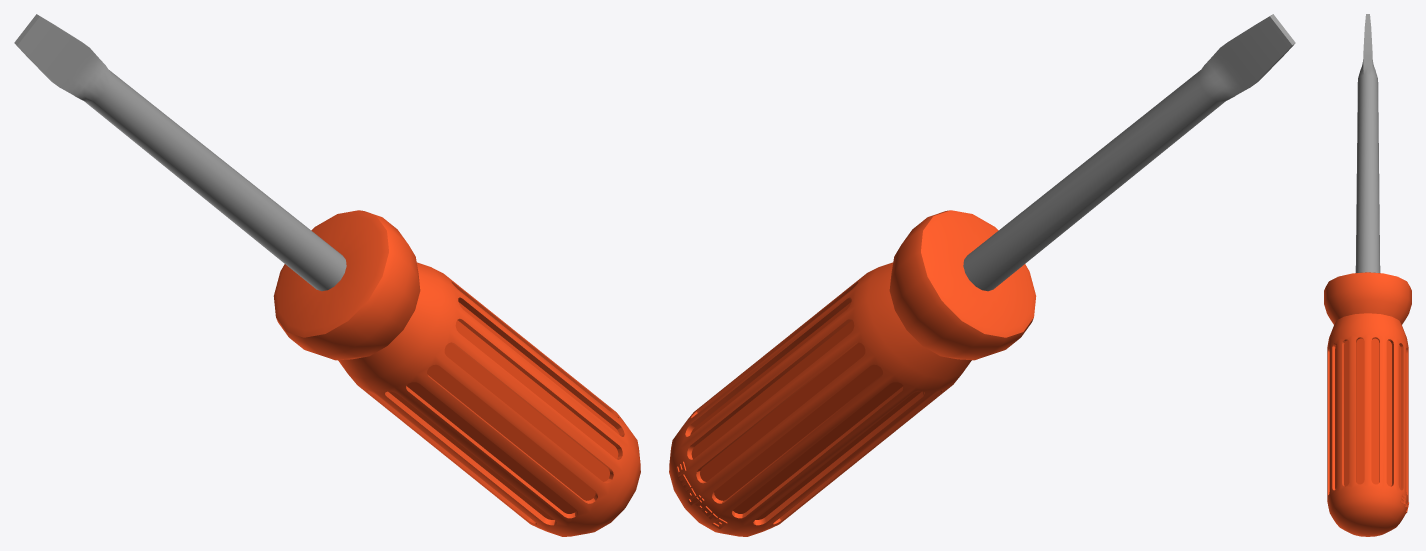
File: screwdriver.glb
3 views of the same model, side by side, from view 1: azimuth 30°, elevation 25°; view 2: azimuth 150°, elevation 25°; view 3: azimuth 270°, elevation 25° (orthographic). The views are drawn at different scales.
Parts seen in each view (by area): view 1: Circle.2588; view 2: Circle.2588; view 3: Circle.2588.
Boxes of the visible parts, x1,y1,x2,y2 form: Circle.2588: [14, 14, 640, 536]; Circle.2588: [669, 14, 1295, 536]; Circle.2588: [1324, 14, 1411, 536].
Bounding box in the file's own units: 2.24 × 2.24 × 0.48.
Materials: 1 (1 with a texture image).
